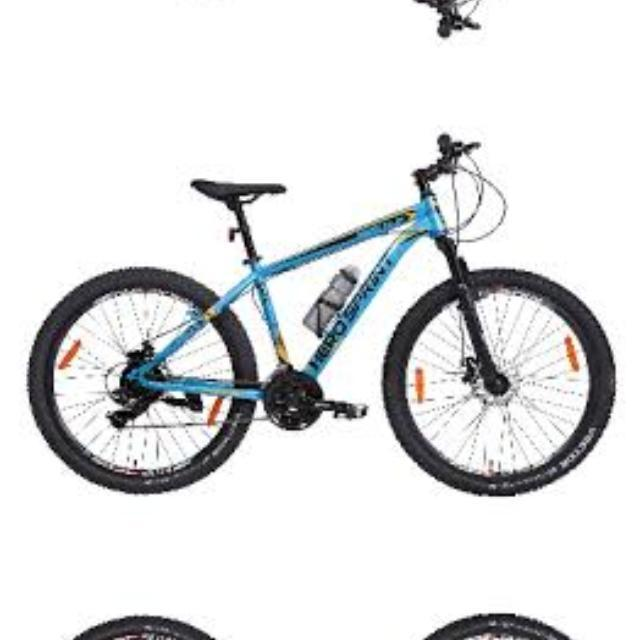obstacle: (16, 121, 640, 478), (16, 0, 639, 48), (16, 629, 639, 640)
